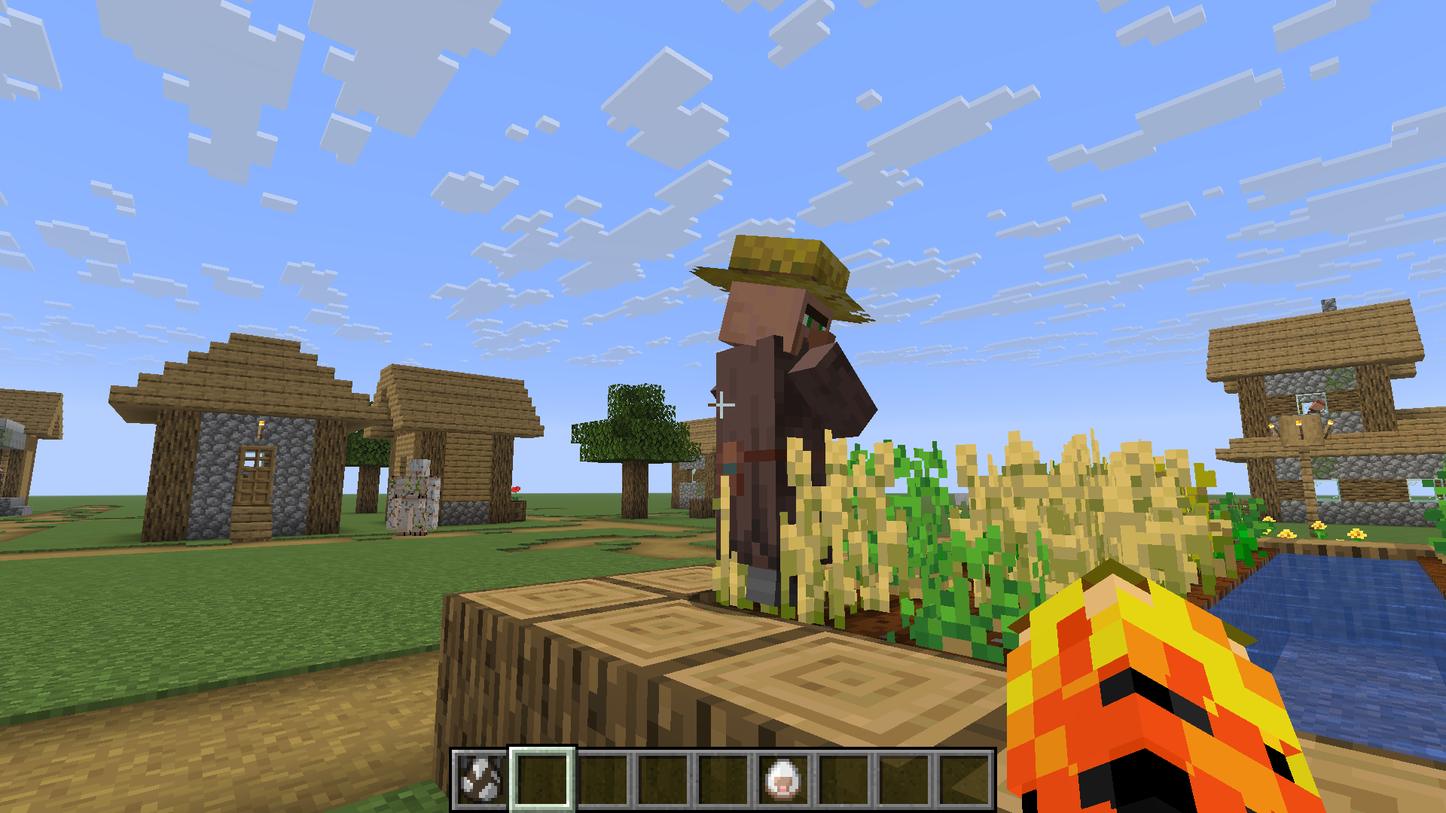villager: (678, 220, 894, 449), (705, 431, 793, 619), (1307, 395, 1332, 418)
wood: (536, 600, 680, 744), (705, 639, 884, 737), (158, 413, 190, 483), (318, 426, 348, 481), (417, 431, 446, 456)
